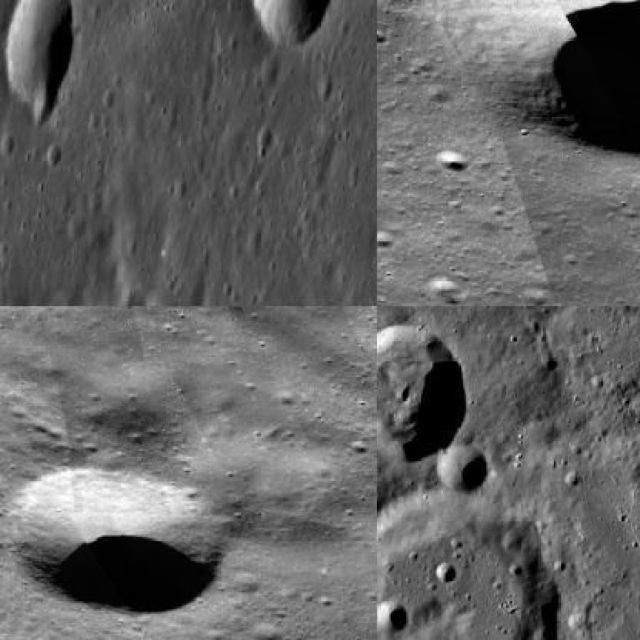crater: (428, 0, 638, 163), (11, 463, 220, 614), (377, 497, 560, 638), (377, 320, 465, 463), (4, 0, 74, 128), (248, 0, 337, 48), (435, 438, 488, 494), (377, 602, 406, 636), (436, 562, 456, 583)
